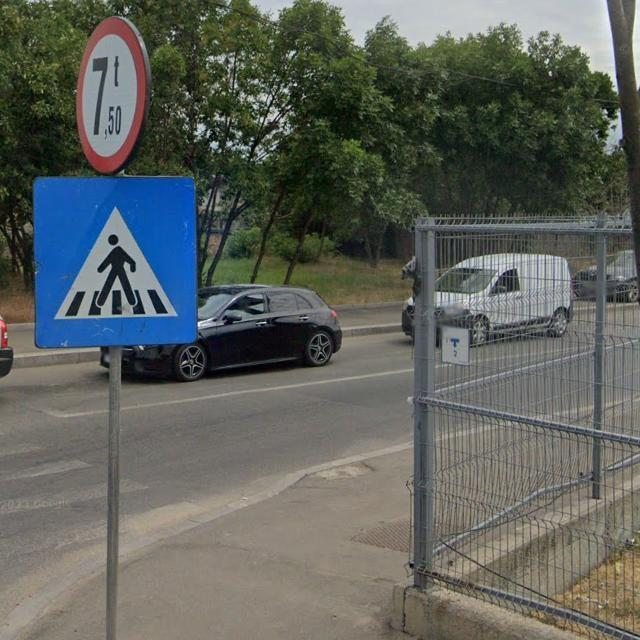info_crosswalk: (30, 178, 198, 347)
